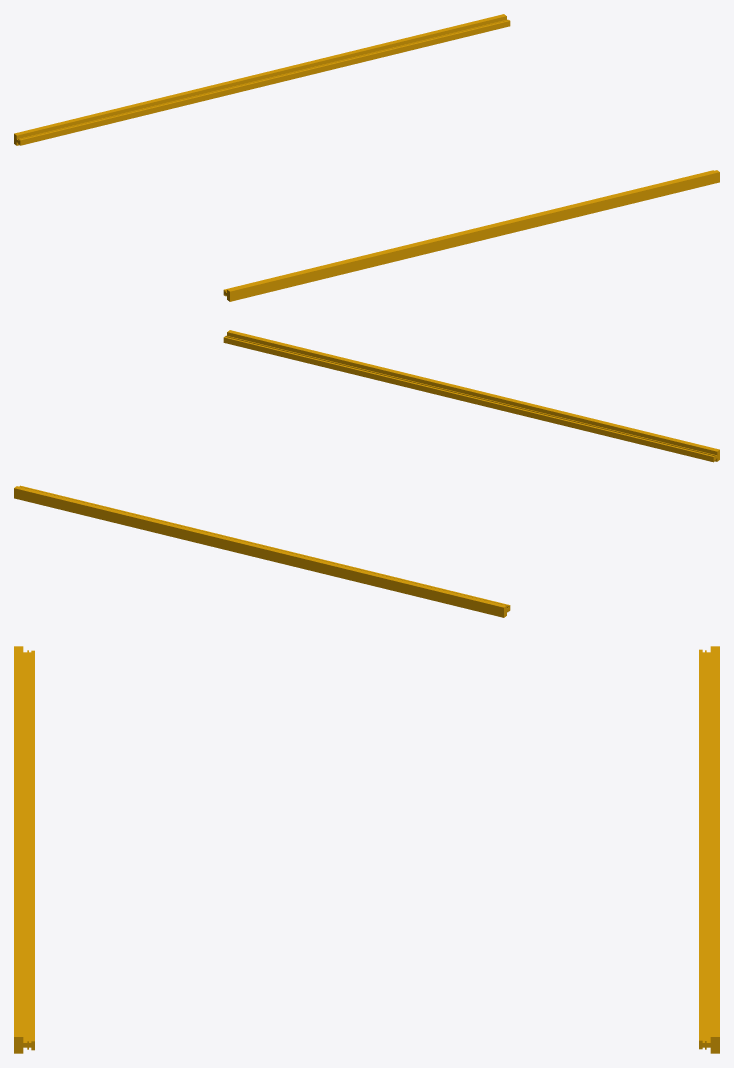
File: Crane_Top.fbx
The picture shows the model from 3 angles, top to bottom: view 1: azimuth 30°, elevation 25°; view 2: azimuth 150°, elevation 25°; view 3: azimuth 270°, elevation 25°; orthographic projection. The views are drawn at different scales.
Parts seen in each view (by area): view 1: Crane_Top_1, Crane_Top_2; view 2: Crane_Top_1, Crane_Top_2; view 3: Crane_Top_1, Crane_Top_2.
Boxes of the visible parts, bbox=[...] form: Crane_Top_1: bbox=[223, 170, 719, 301]; Crane_Top_2: bbox=[14, 14, 510, 145]; Crane_Top_1: bbox=[223, 330, 719, 462]; Crane_Top_2: bbox=[14, 485, 510, 617]; Crane_Top_1: bbox=[14, 646, 34, 1053]; Crane_Top_2: bbox=[699, 646, 719, 1053].
Bounding box in the file's own units: 10000 × 200 × 7634.
